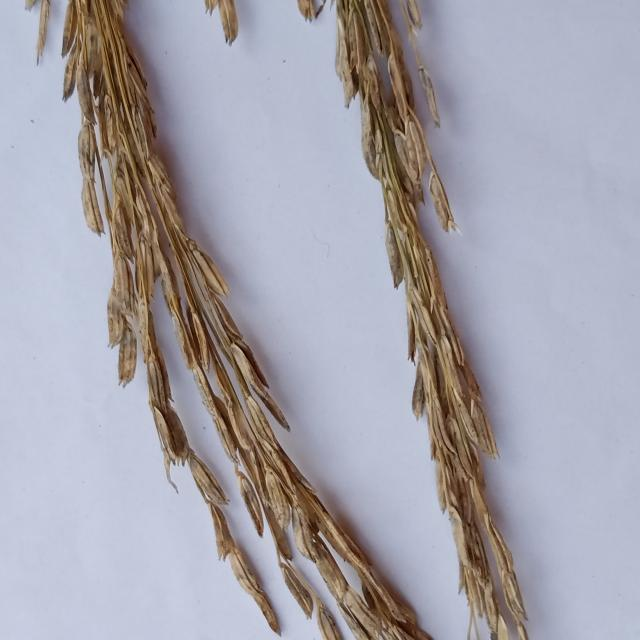Neck_Blast: (74, 0, 415, 636), (337, 2, 527, 628)
